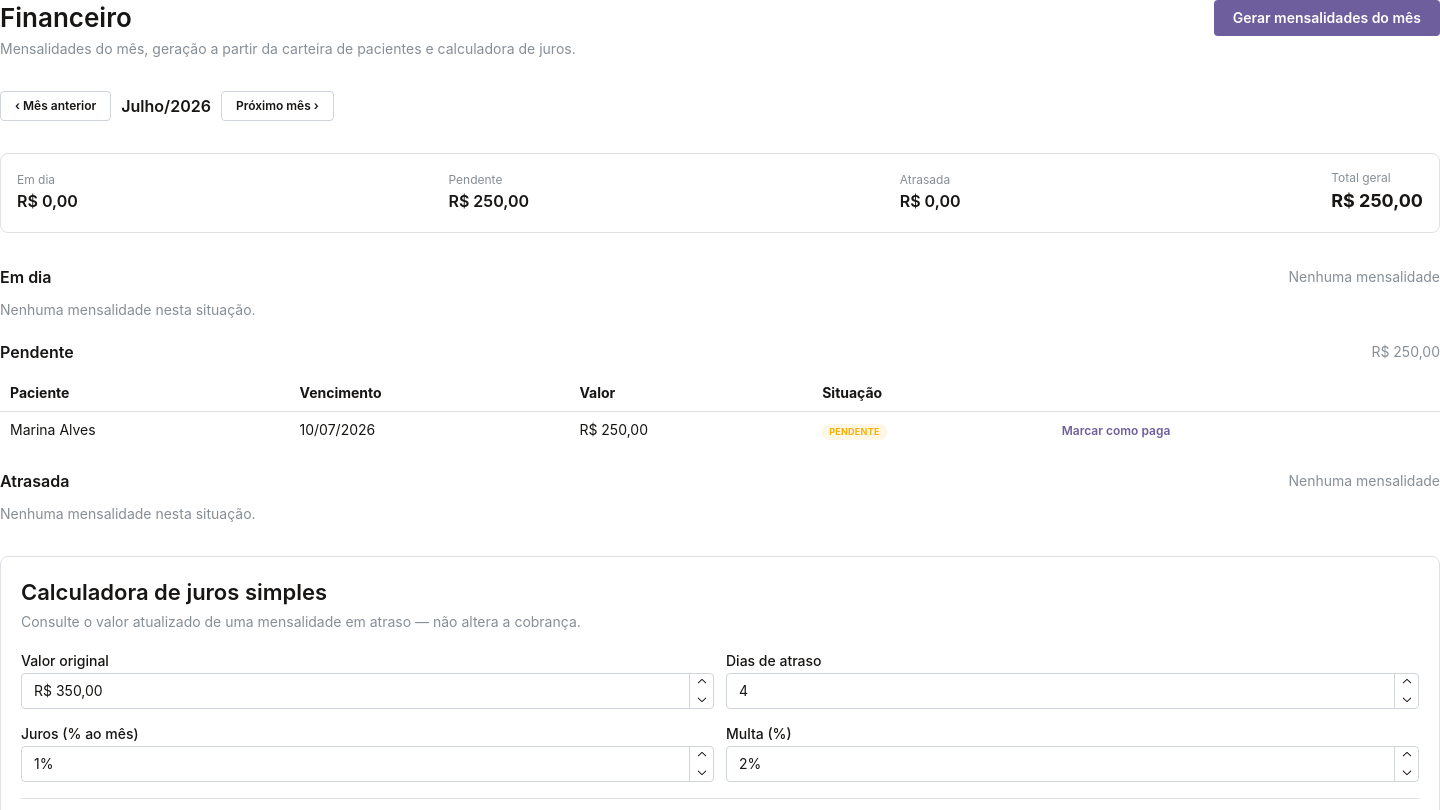
Test: FinancePage — marcar como paga e desfazer › marca uma mensalidade pendente como paga e move o total/grupo imediatamente, com opção de desfazer
The image size is (1440, 810).
Click the button with test id "finance-mark-paid-c1": click(1116, 431) x1=1054 y1=420 x2=1178 y2=442
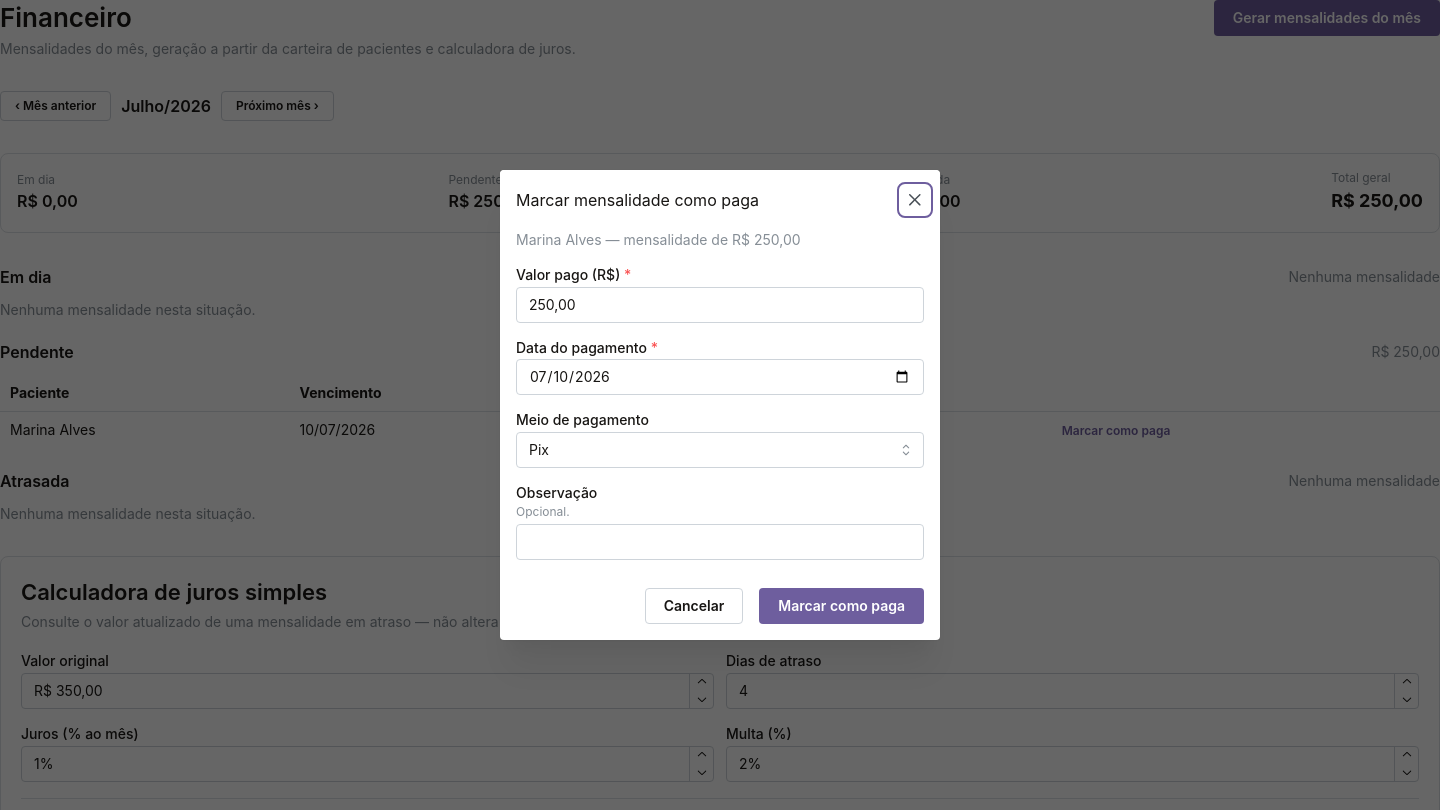
Click the button with test id "confirm-register-payment": click(842, 606) x1=759 y1=588 x2=924 y2=624
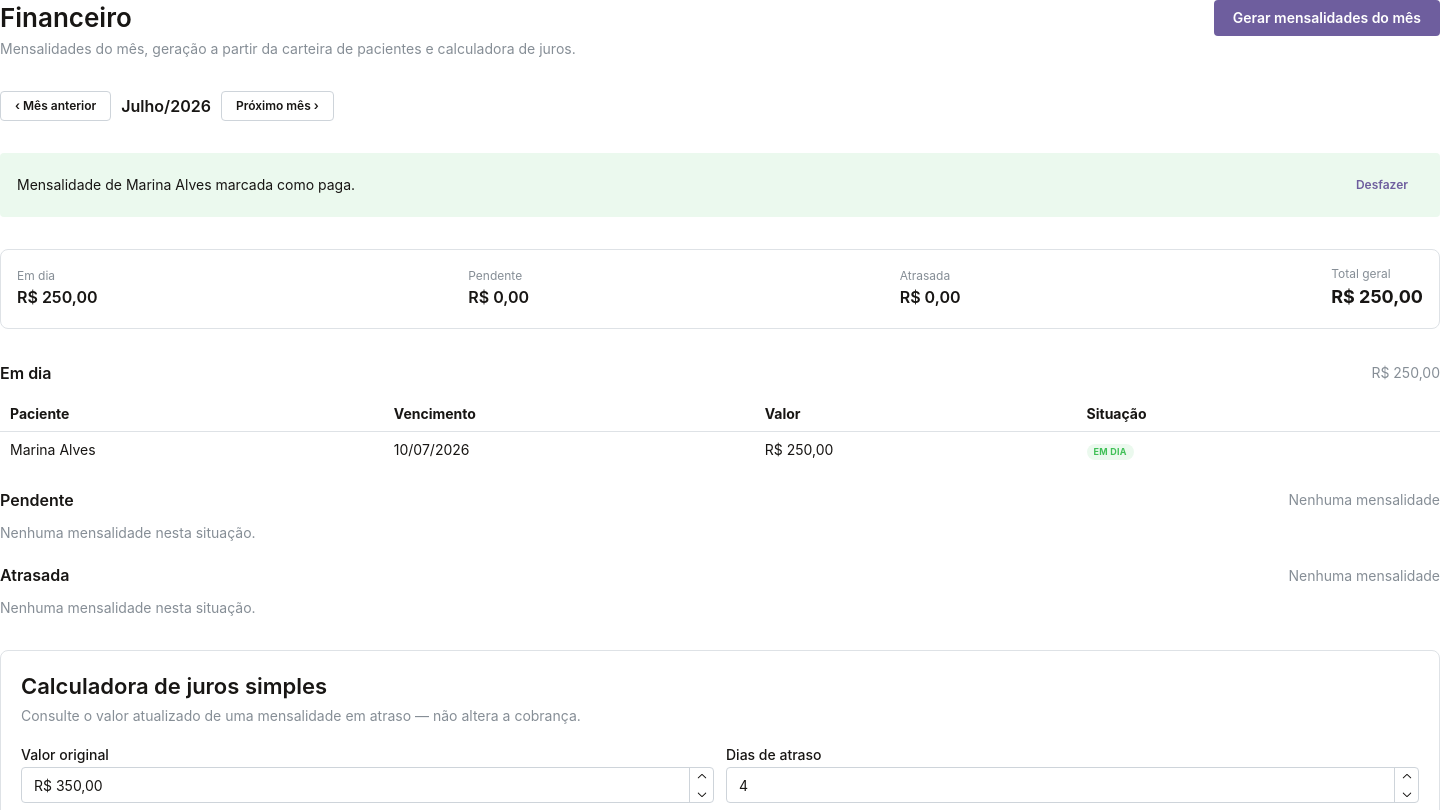
Now the message "Mensalidade de Marina Alves marcada como paga. Desfazer" is shown, box x1=0 y1=153 x2=1439 y2=217
Now the 1st text "R$ 250,00" is shown, box x1=17 y1=285 x2=98 y2=310
Now the 1st text "R$ 0,00" is shown, box x1=468 y1=285 x2=529 y2=310
